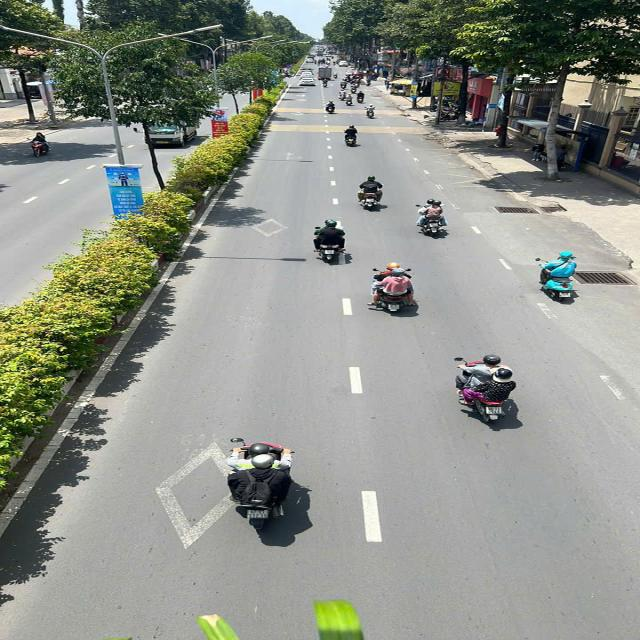Truck: (319, 68, 331, 81)
car: (297, 78, 316, 85), (301, 73, 315, 78), (354, 72, 364, 78), (344, 70, 358, 74), (301, 66, 314, 70), (302, 70, 314, 74), (338, 62, 348, 66), (306, 58, 314, 63)
motobyte: (453, 356, 512, 424), (238, 444, 286, 527), (536, 253, 577, 303), (372, 264, 412, 312), (307, 220, 345, 264), (415, 199, 450, 235), (354, 174, 383, 208), (343, 124, 359, 146), (367, 105, 375, 118), (327, 101, 333, 113), (339, 89, 345, 101), (358, 92, 364, 103), (347, 93, 352, 106), (339, 81, 346, 89), (350, 80, 356, 87), (322, 80, 327, 88), (366, 78, 371, 86), (351, 84, 355, 93), (355, 80, 360, 87), (344, 77, 349, 83), (348, 75, 353, 81), (333, 72, 337, 78), (326, 62, 331, 65), (314, 60, 317, 64), (334, 61, 336, 65), (324, 66, 328, 68), (319, 66, 322, 68)
